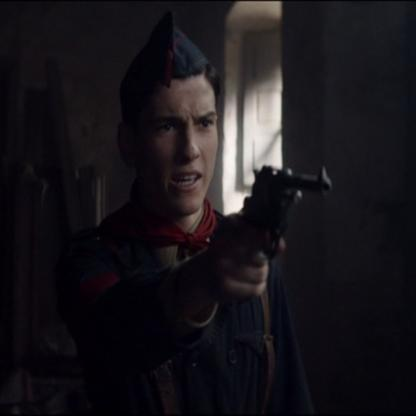gun: (201, 171, 365, 261)
